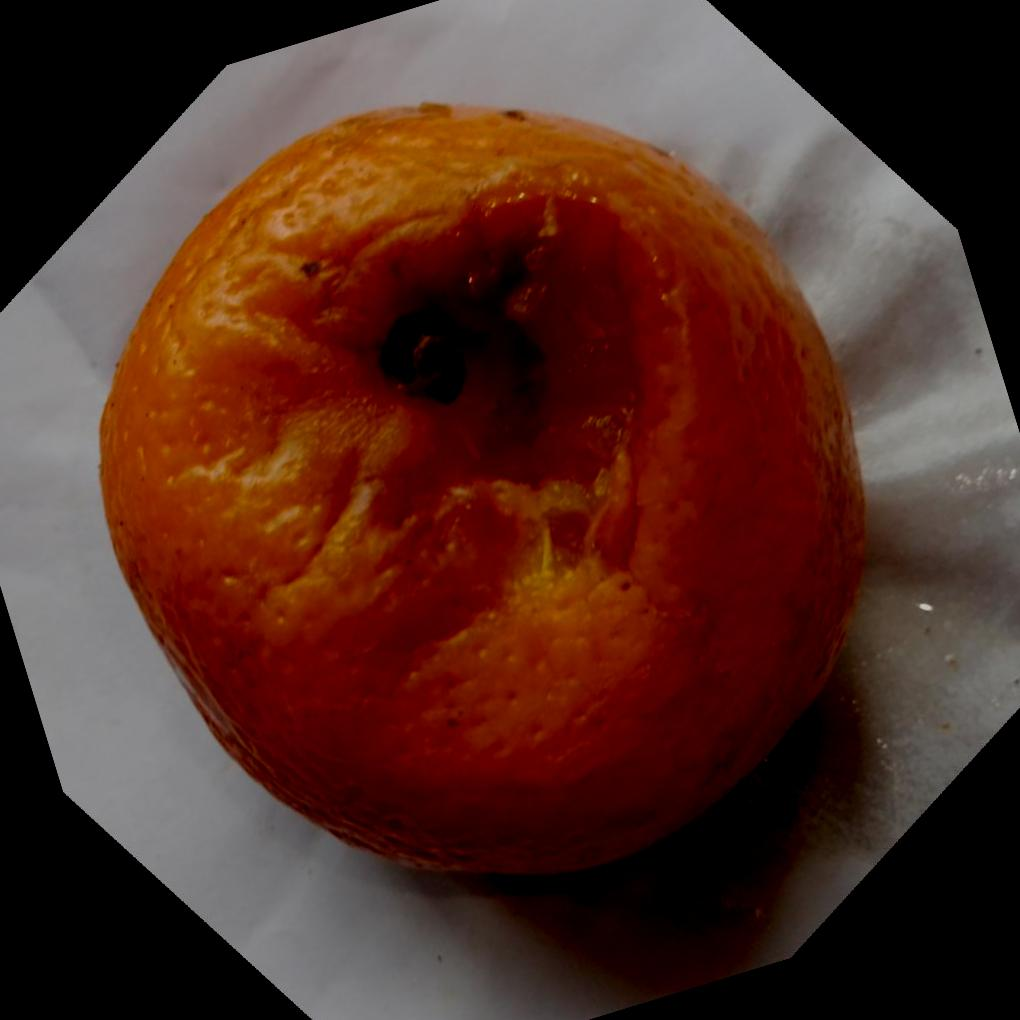FreshOrange: (99, 99, 871, 886)
